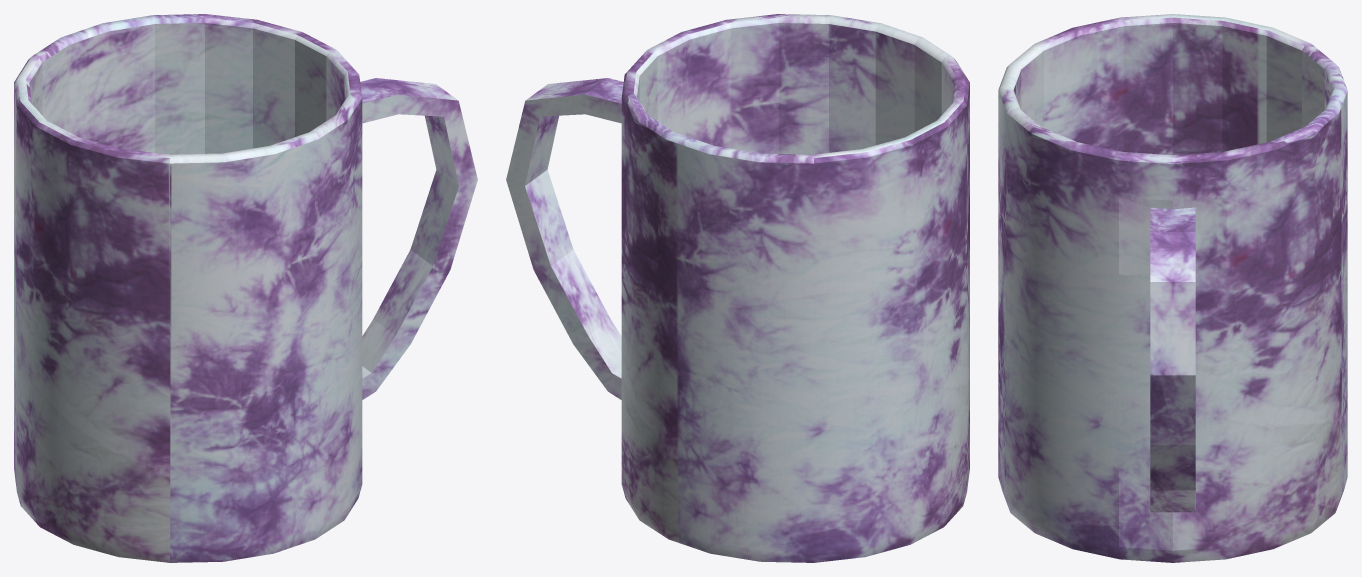
3 renders of one model, left to right at view 1: azimuth 30°, elevation 25°; view 2: azimuth 150°, elevation 25°; view 3: azimuth 270°, elevation 25°, orthographic.
Visible parts, largest first — view 1: cupcup; view 2: cupcup; view 3: cupcup.
Boxes of the visible parts, <box> form: cupcup: <box>14,14,477,562</box>; cupcup: <box>506,14,969,562</box>; cupcup: <box>998,14,1347,562</box>.
Bounding box in the file's own units: 1.69 × 1.52 × 1.19.
Materials: 1 (1 with a texture image).
